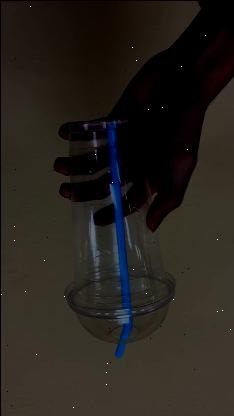Others: (66, 117, 176, 355)
